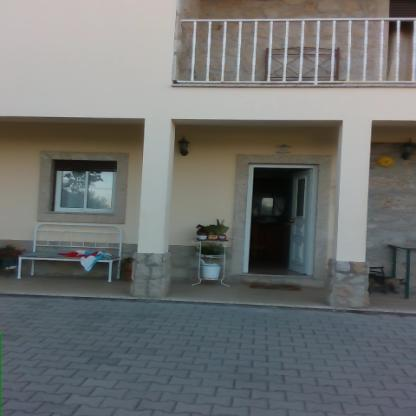open: (242, 156, 332, 290)
